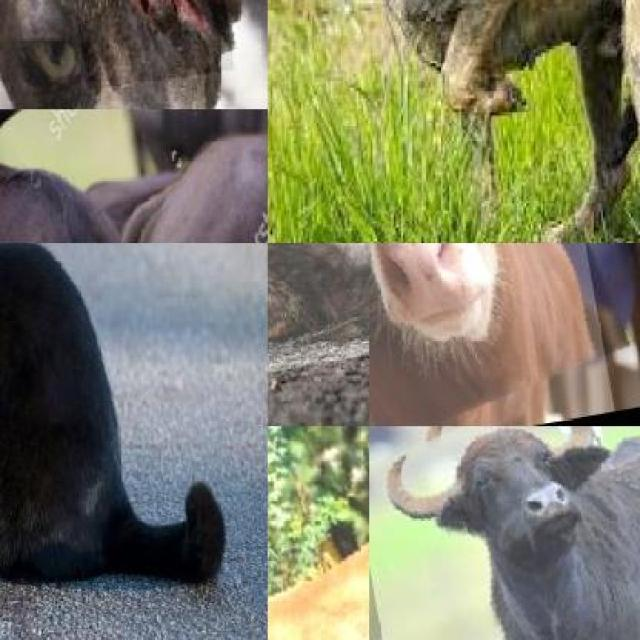buffalo: (369, 426, 640, 640)
cat: (0, 243, 228, 622), (0, 0, 268, 109)
cow: (369, 243, 614, 426)
dog: (312, 0, 640, 243)
injured: (404, 0, 554, 151), (61, 0, 234, 89)
